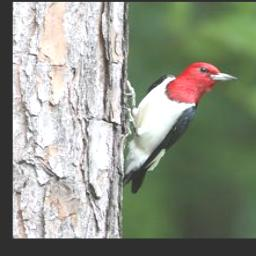Woodpecker: (117, 61, 242, 193)
